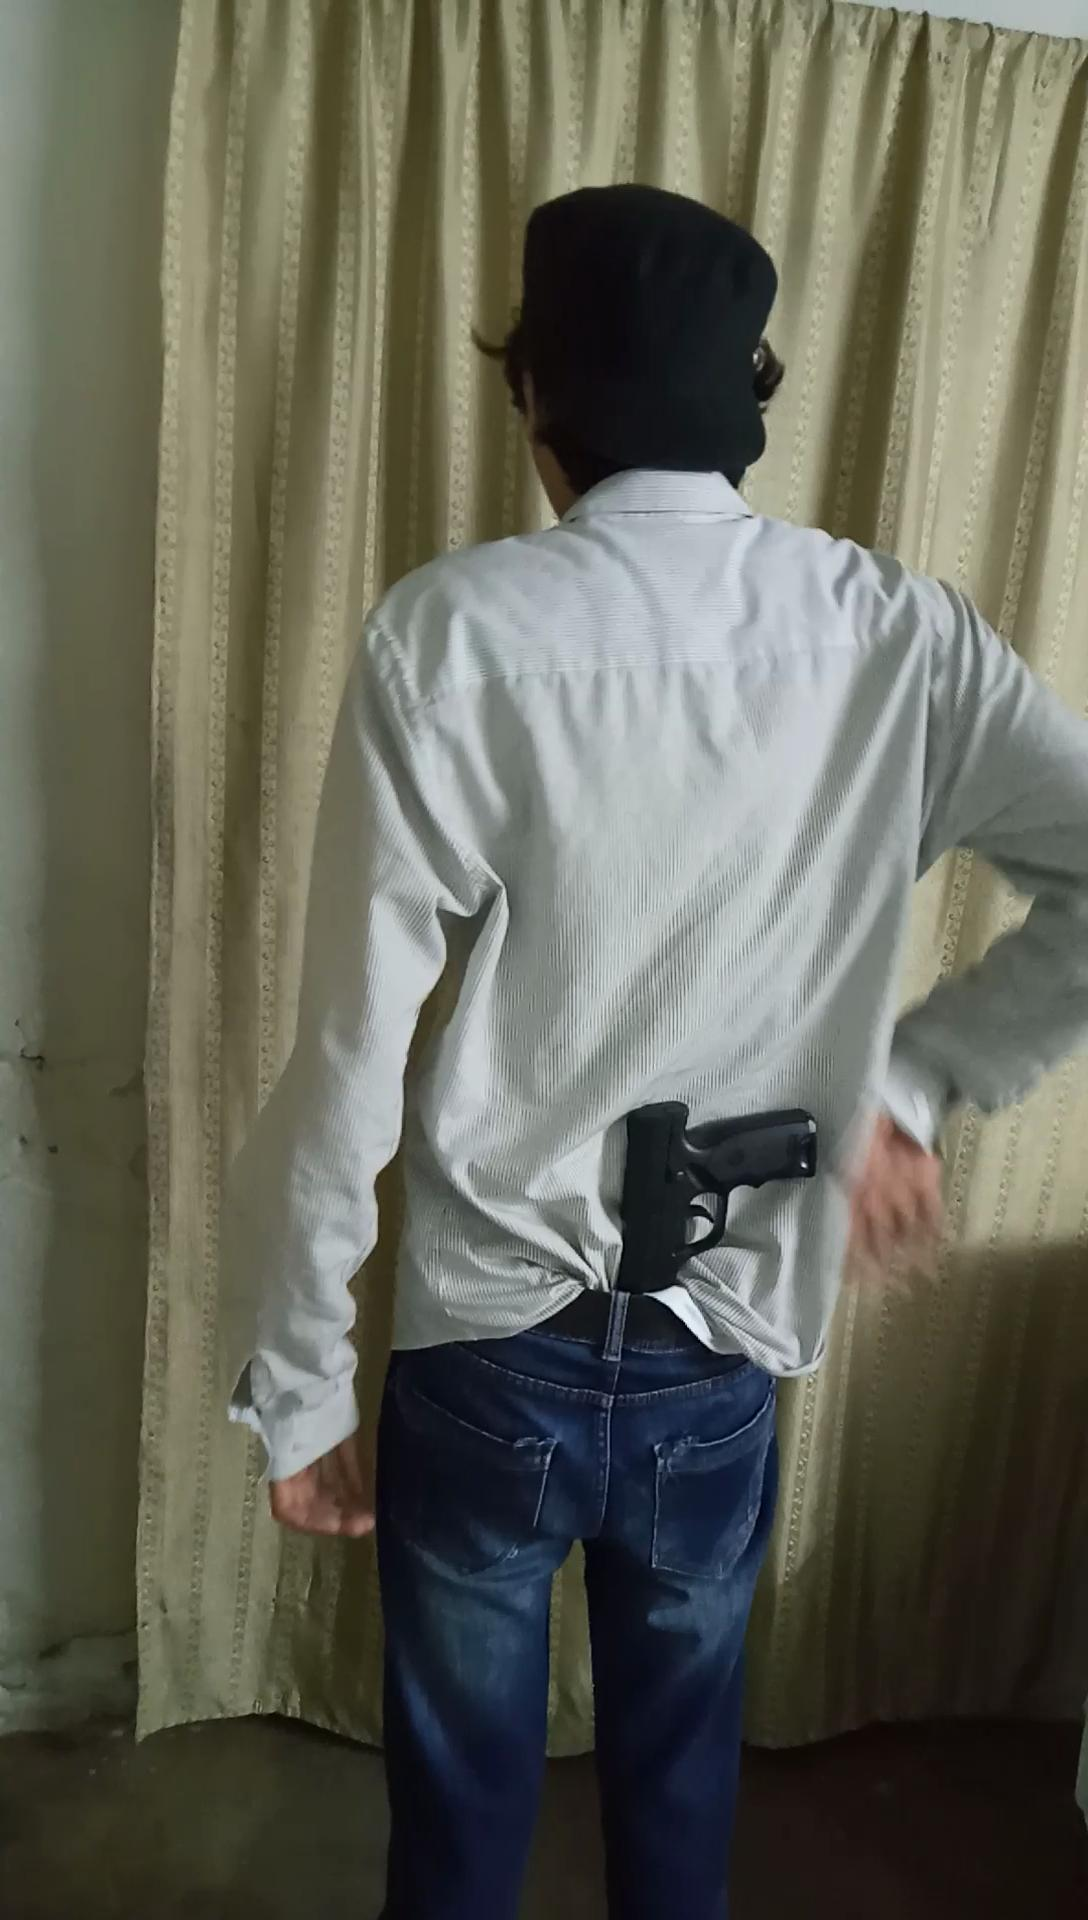weapon: (587, 1081, 845, 1317)
